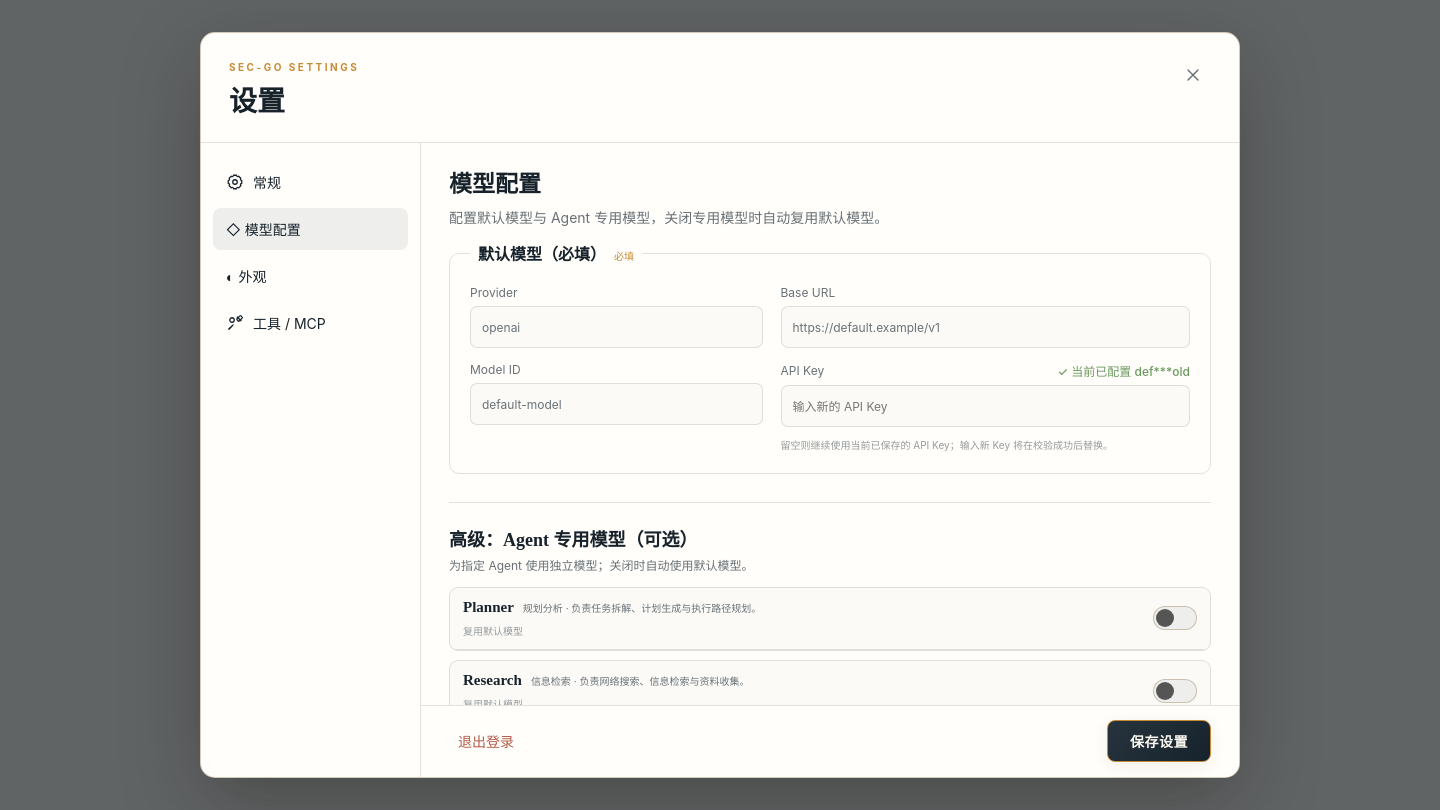
Test: SettingsPanel model settings › clears plaintext after save even when the status refresh fails
In the password field named "默认模型（必填） API Key": (985, 406) [780,385,1190,427], type "new-default-secret"
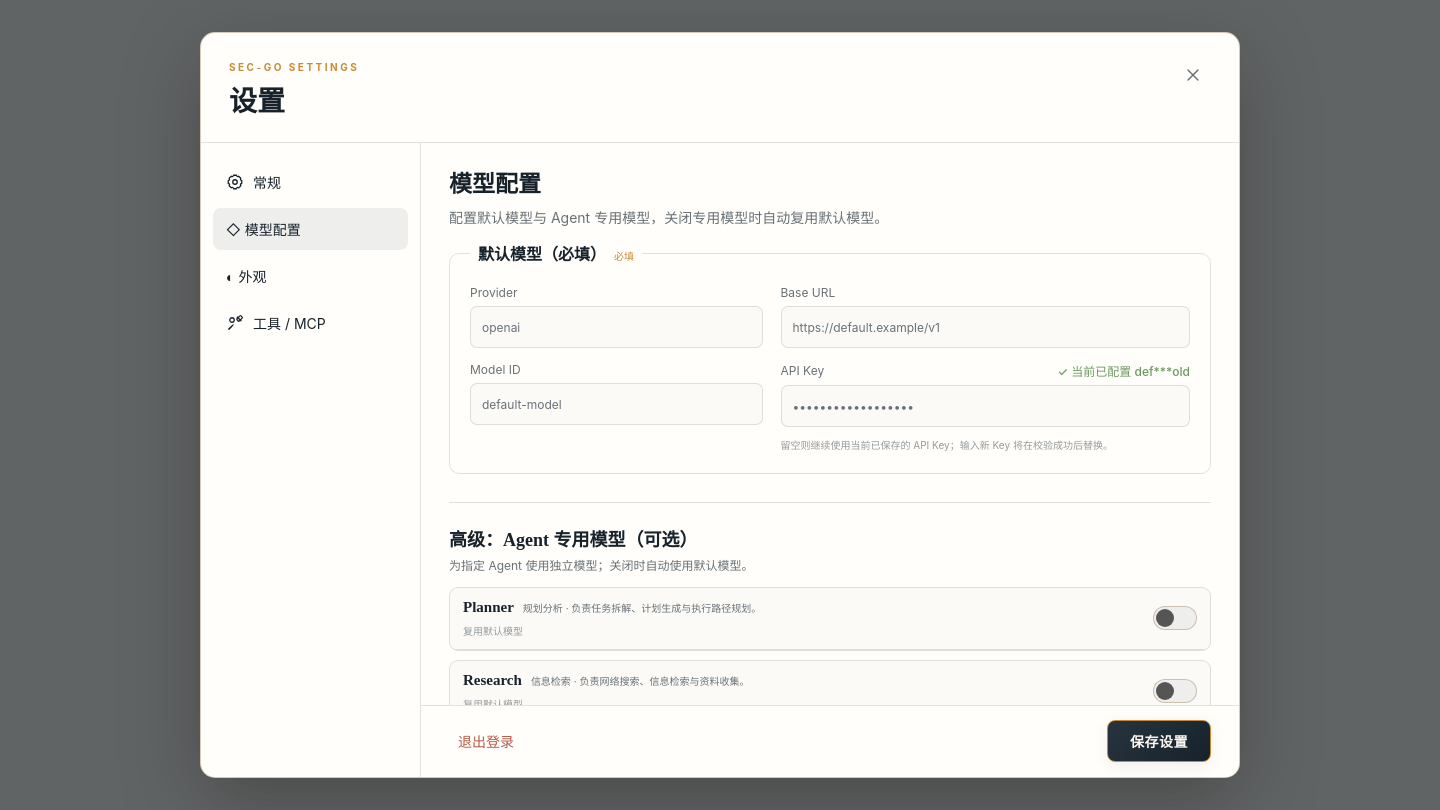
Click the button "保存设置": (1159, 741) [1107,720,1211,762]
(page scrolled)
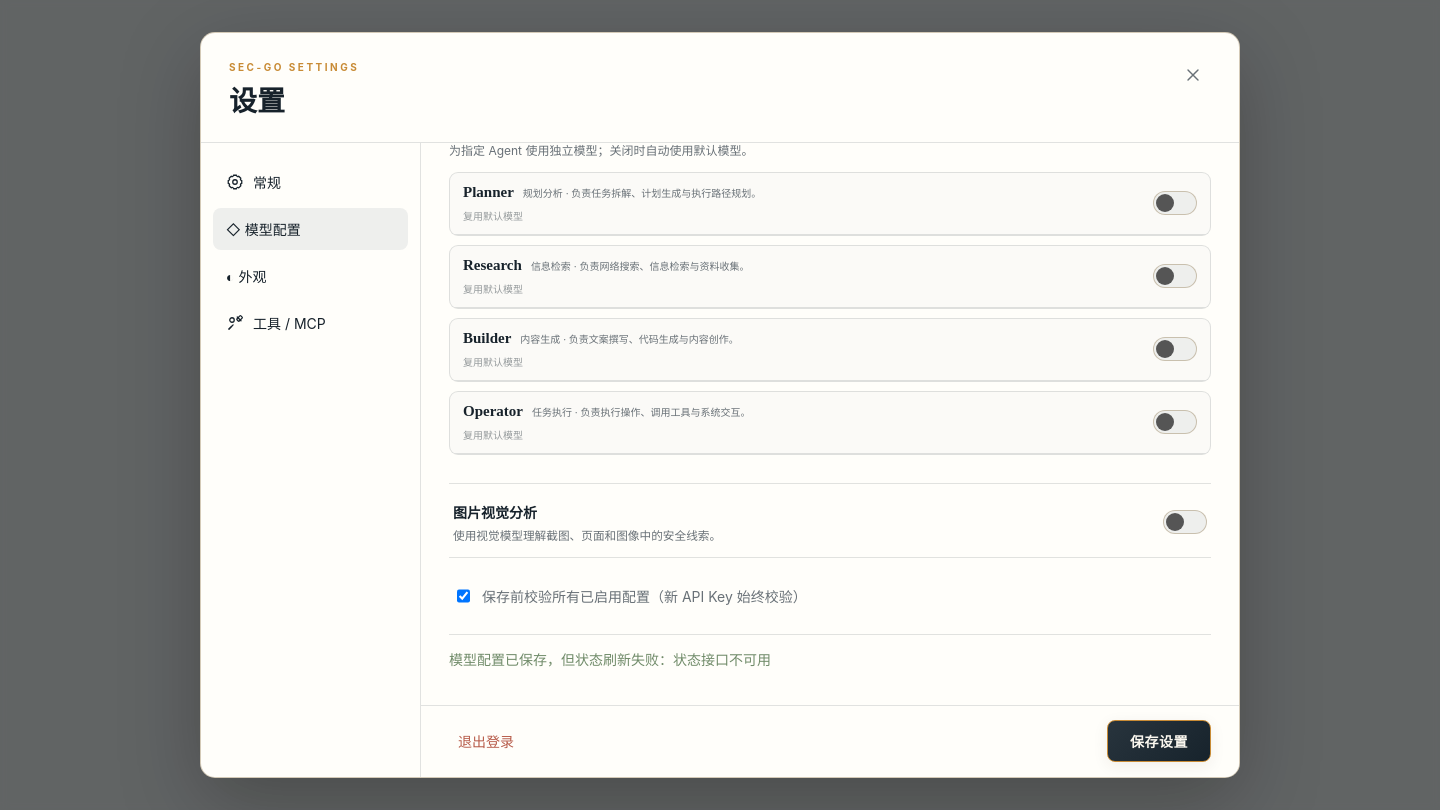
Expected: the text "模型配置已保存，但状态刷新失败：状态接口不可用" is shown, [449,651,771,668]
